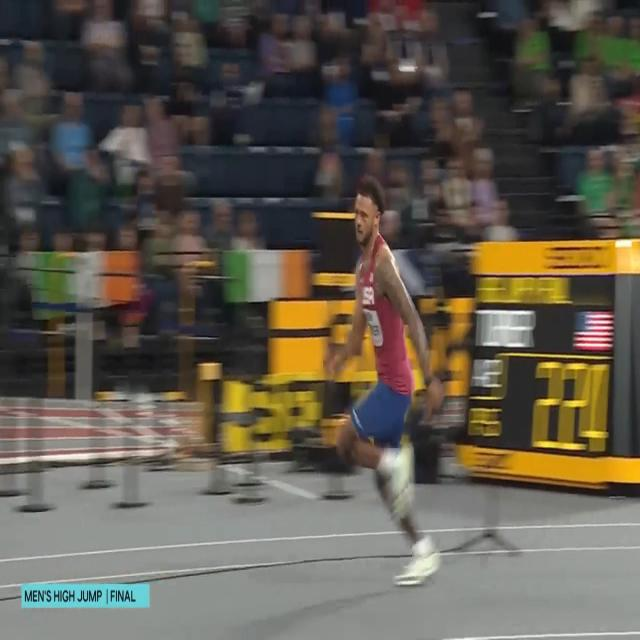run: (322, 166, 446, 590)
